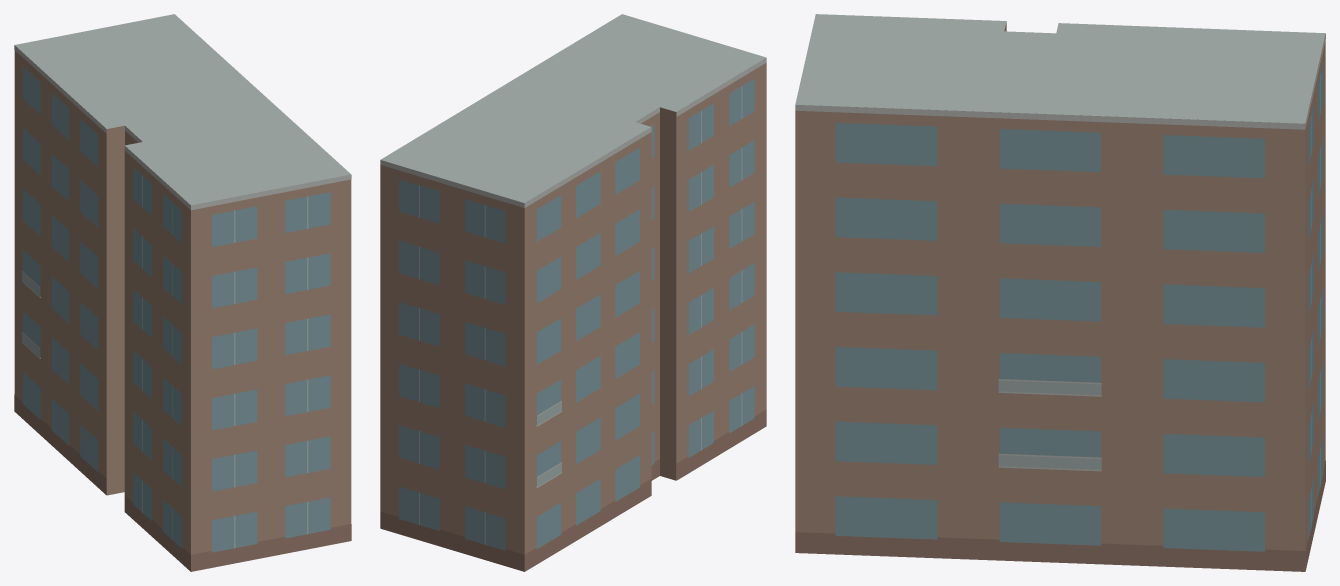
Rendered from survey-upis-32736107.glb.
3 renders of one model, left to right at view 1: azimuth 30°, elevation 25°; view 2: azimuth 150°, elevation 25°; view 3: azimuth 270°, elevation 25°, orthographic. The views are drawn at different scales.
Parts seen in each view (by area): view 1: survey-upis-32736107.tmp; view 2: survey-upis-32736107.tmp; view 3: survey-upis-32736107.tmp.
Boxes of the visible parts, <box> form: survey-upis-32736107.tmp: <box>14,14,351,571</box>; survey-upis-32736107.tmp: <box>380,14,766,571</box>; survey-upis-32736107.tmp: <box>795,14,1325,571</box>.
Bounding box in the file's own units: 9.62 × 18.3 × 19.64.
